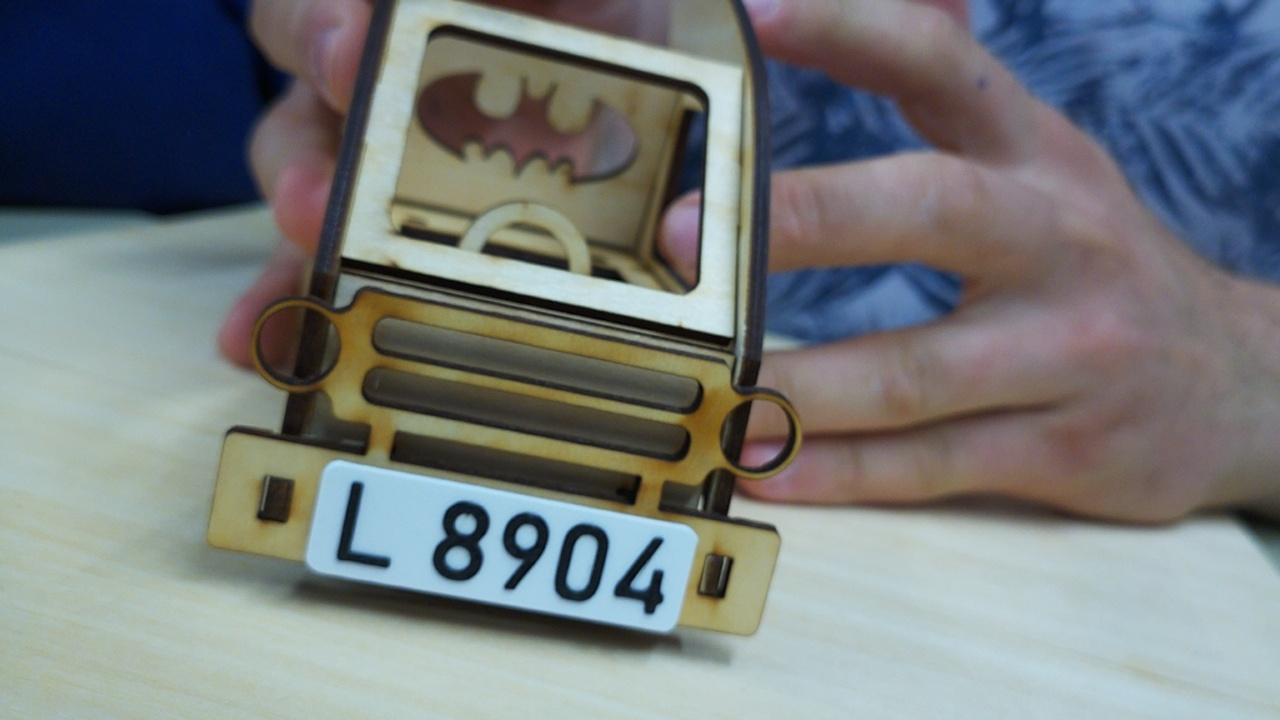license_plate: (304, 455, 701, 634)
